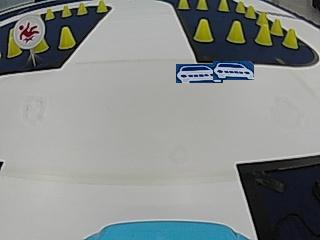cone: (254, 18, 271, 46), (194, 18, 213, 42), (226, 20, 245, 44), (58, 26, 75, 49), (6, 35, 20, 58), (282, 28, 297, 49), (270, 17, 282, 35), (245, 3, 255, 19), (96, 0, 107, 13), (61, 4, 71, 18), (218, 0, 229, 12), (77, 2, 87, 15), (196, 0, 208, 10), (45, 8, 55, 20), (236, 0, 245, 13), (178, 0, 189, 10)
tumble: (15, 16, 43, 45)
